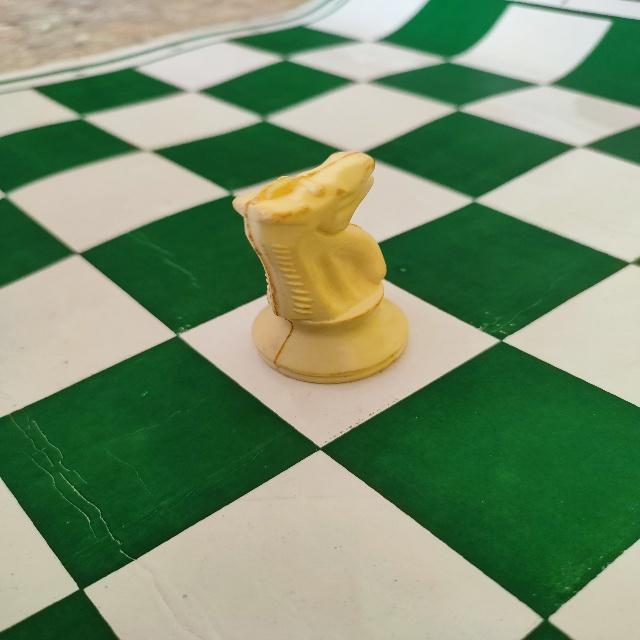Knight: (228, 147, 413, 386)
